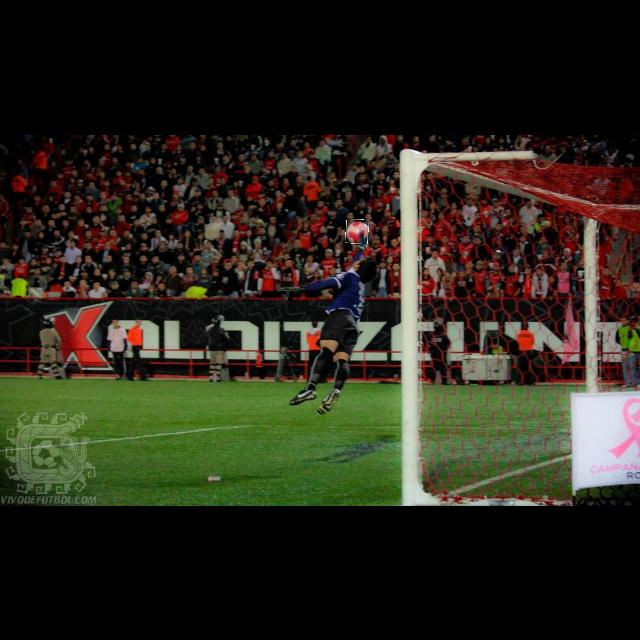Football: (345, 220, 369, 244)
